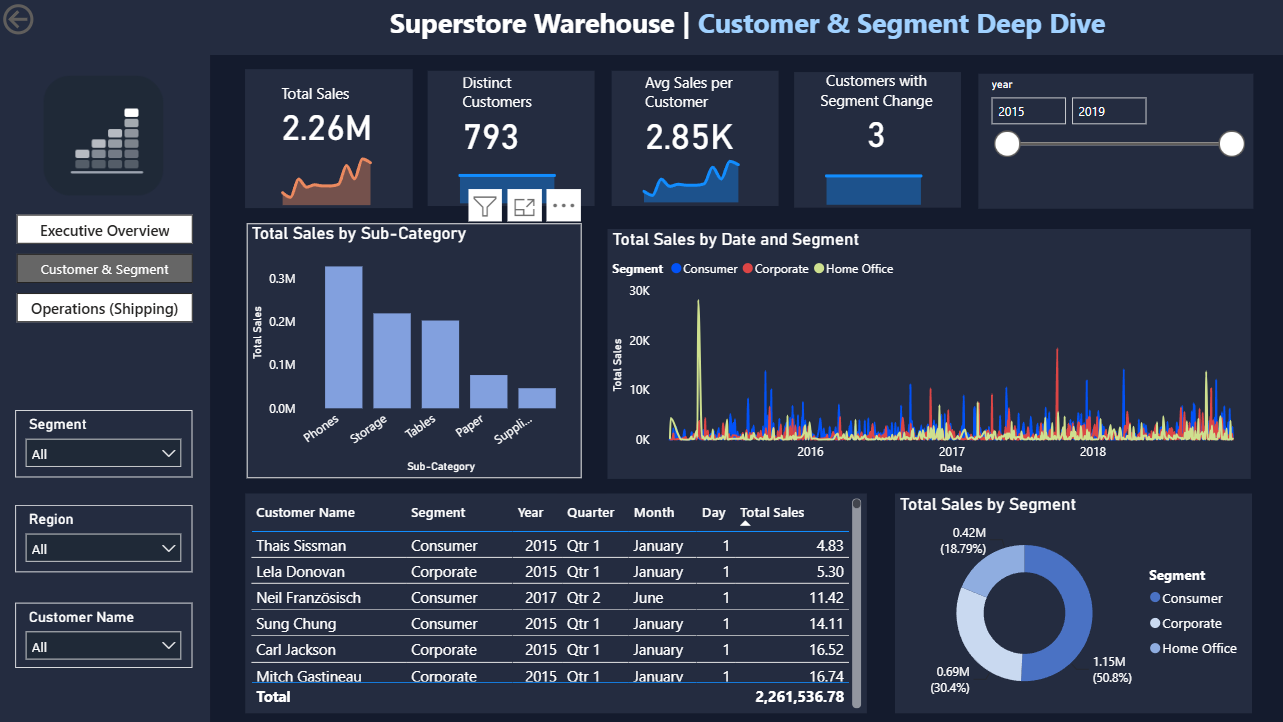

The dashboard page shown, as its layout file describes it:
{"tool":"powerbi","page":{"name":"Customer & Segment ","canvas":[1280,720],"ordinal":1},"visuals":[{"type":"group","id":"g1","title":"Group 3","box":[0,0,1287.1,55.7],"z":0},{"type":"shape","box":[245.6,69.6,166.1,137.7],"z":0,"group":"g2"},{"type":"shape","box":[427.8,71.4,165.4,134.4],"z":0,"group":"g3"},{"type":"shape","box":[610.5,72.4,165.4,134.4],"z":0,"group":"g4"},{"type":"shape","box":[792.2,73.1,165.4,134.4],"z":0,"group":"g5"},{"type":"shape","box":[0,52.1,210.5,668],"z":500,"group":"g7"},{"type":"shape","box":[0,0,1287.1,55.7],"z":1000,"group":"g1"},{"type":"cardVisual","fields":{"Data":["fact_sales.Customers with Segment Change"]},"box":[788.7,68.5,161.9,88],"z":1000,"group":"g5"},{"type":"cardVisual","fields":{"Data":["fact_sales.Avg Sales per Customer"]},"box":[629.8,69,134.3,91.4],"z":1000,"group":"g4"},{"type":"cardVisual","fields":{"Data":["fact_sales.Distinct Customers"]},"box":[449.4,72.3,129.3,82.7],"z":1000,"group":"g3"},{"type":"cardVisual","fields":{"Data":["fact_sales.Total Sales"]},"box":[269.1,76,122.1,79.5],"z":1000,"group":"g2"},{"type":"lineChart","title":"Total Sales by Date and Segment","fields":{"Category":["dim_date.full_date"],"Series":["dim_customer.Segment"],"Y":["fact_sales.Total Sales"]},"box":[606.2,228.6,639.6,248.5],"z":1000},{"type":"textbox","box":[384.8,0,751.1,54],"z":2000,"group":"g1"},{"type":"areaChart","fields":{"Category":["dim_date.month"],"Y":["fact_sales.Distinct Customers"]},"box":[436.2,132.3,157.9,75.3],"z":2000,"group":"g3"},{"type":"areaChart","fields":{"Category":["dim_date.month"],"Y":["fact_sales.Avg Sales per Customer"]},"box":[618.9,133.4,157.9,75.3],"z":2000,"group":"g4"},{"type":"areaChart","fields":{"Category":["dim_date.month"],"Y":["fact_sales.Customers with Segment Change"]},"box":[800.6,134.1,157.9,75.3],"z":2000,"group":"g5"},{"type":"areaChart","fields":{"Category":["dim_date.month"],"Y":["fact_sales.Total Sales"]},"box":[259.6,137.7,149.1,72.4],"z":2000,"group":"g2"},{"type":"donutChart","fields":{"Category":["dim_customer.Segment"],"Y":["fact_sales.Total Sales"]},"box":[891.3,490.7,354.6,218.5],"z":3000},{"type":"slicer","fields":{"Values":["dim_date.year"]},"box":[974,73.8,272.6,133.5],"z":4000},{"type":"slicer","fields":{"Values":["dim_location.Region"]},"box":[16.9,503.7,175.7,66.5],"z":4000,"group":"g7"},{"type":"tableEx","fields":{"Values":["dim_customer.Customer Name","dim_customer.Segment","dim_customer.effective_date.Variation.Date Hierarchy.Year","dim_customer.effective_date.Variation.Date Hierarchy.Quarter","dim_customer.effective_date.Variation.Date Hierarchy.Month","dim_customer.effective_date.Variation.Date Hierarchy.Day","fact_sales.Total Sales"]},"box":[245.6,491.2,617.4,218.5],"z":5000},{"type":"actionButton","box":[0,0,100,40],"z":6000},{"type":"group","id":"g2","title":"Group 2","box":[245.6,69.6,166.1,140.6],"z":7000},{"type":"group","id":"g3","title":"Group 2","box":[427.8,71.4,166.3,136.3],"z":8000},{"type":"group","id":"g4","title":"Group 2","box":[610.5,69,166.3,139.7],"z":9000},{"type":"slicer","fields":{"Values":["dim_customer.Segment"]},"box":[16.9,408.7,175.7,66.5],"z":9000,"group":"g7"},{"type":"group","id":"g5","title":"Group 2","box":[788.7,68.5,169.8,140.9],"z":10000},{"type":"group","id":"g6","title":"Group 4","box":[0,52.1,210.5,668],"z":11000},{"type":"slicer","fields":{"Values":["dim_customer.Customer Name"]},"box":[16.9,600,175.9,64.6],"z":11000,"group":"g7"},{"type":"group","id":"g7","title":"Group 1","box":[0,52.1,210.5,668],"z":12000,"group":"g6"},{"type":"image","box":[29.9,71.6,149.7,128.9],"z":12000},{"type":"columnChart","fields":{"Category":["dim_product.Sub-Category"],"Y":["fact_sales.Total Sales"]},"box":[247.1,222.9,332.9,252.9],"z":12001},{"type":"pageNavigator","box":[18.2,214.7,175.7,109.3],"z":12500,"group":"g6"}]}

Visuals, with their boxes on the page's 1280x720 design canvas (x1, y1, x2, y2). These are canvas units, not pixel positions in the 1283x722 screenshot, which may show the page scaled, cropped or inside an application window:
"Group 3" group: <box>0,0,1287,56</box>
shape: <box>246,70,412,207</box>
shape: <box>428,71,593,206</box>
shape: <box>610,72,776,207</box>
shape: <box>792,73,958,208</box>
shape: <box>0,52,210,720</box>
shape: <box>0,0,1287,56</box>
cardVisual - fact_sales.Customers with Segment Change: <box>789,68,951,156</box>
cardVisual - fact_sales.Avg Sales per Customer: <box>630,69,764,160</box>
cardVisual - fact_sales.Distinct Customers: <box>449,72,579,155</box>
cardVisual - fact_sales.Total Sales: <box>269,76,391,156</box>
"Total Sales by Date and Segment" lineChart: <box>606,229,1246,477</box>
textbox: <box>385,0,1136,54</box>
areaChart - dim_date.month x fact_sales.Distinct Customers: <box>436,132,594,208</box>
areaChart - dim_date.month x fact_sales.Avg Sales per Customer: <box>619,133,777,209</box>
areaChart - dim_date.month x fact_sales.Customers with Segment Change: <box>801,134,958,209</box>
areaChart - dim_date.month x fact_sales.Total Sales: <box>260,138,409,210</box>
donutChart - dim_customer.Segment x fact_sales.Total Sales: <box>891,491,1246,709</box>
slicer - dim_date.year: <box>974,74,1247,207</box>
slicer - dim_location.Region: <box>17,504,193,570</box>
tableEx - dim_customer.Customer Name x dim_customer.Segment: <box>246,491,863,710</box>
actionButton: <box>0,0,100,40</box>
"Group 2" group: <box>246,70,412,210</box>
"Group 2" group: <box>428,71,594,208</box>
"Group 2" group: <box>610,69,777,209</box>
slicer - dim_customer.Segment: <box>17,409,193,475</box>
"Group 2" group: <box>789,68,958,209</box>
"Group 4" group: <box>0,52,210,720</box>
slicer - dim_customer.Customer Name: <box>17,600,193,665</box>
"Group 1" group: <box>0,52,210,720</box>
image: <box>30,72,180,200</box>
columnChart - dim_product.Sub-Category x fact_sales.Total Sales: <box>247,223,580,476</box>
pageNavigator: <box>18,215,194,324</box>
